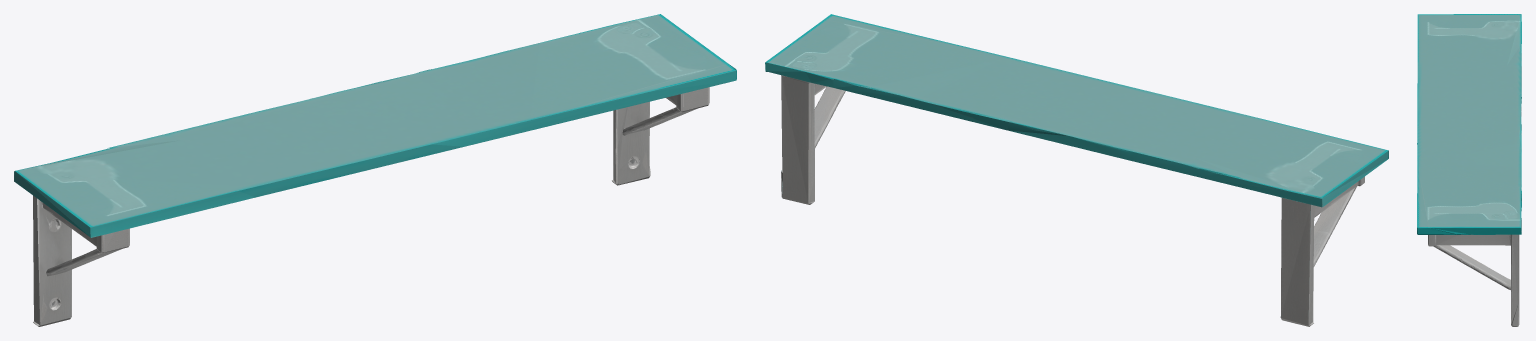
File: GlassShelf_low.fbx
3 views of the same model, side by side, from view 1: azimuth 30°, elevation 25°; view 2: azimuth 150°, elevation 25°; view 3: azimuth 270°, elevation 25° (orthographic). The views are drawn at different scales.
Parts seen in each view (by area): view 1: GlassShelf_low; view 2: GlassShelf_low; view 3: GlassShelf_low.
Boxes of the visible parts, left/top/right/bottom form: GlassShelf_low: left=14, top=14, right=736, bottom=326; GlassShelf_low: left=765, top=14, right=1388, bottom=326; GlassShelf_low: left=1417, top=14, right=1521, bottom=326.
Size of the model in its own units: 190 by 43.8 by 39.4.
